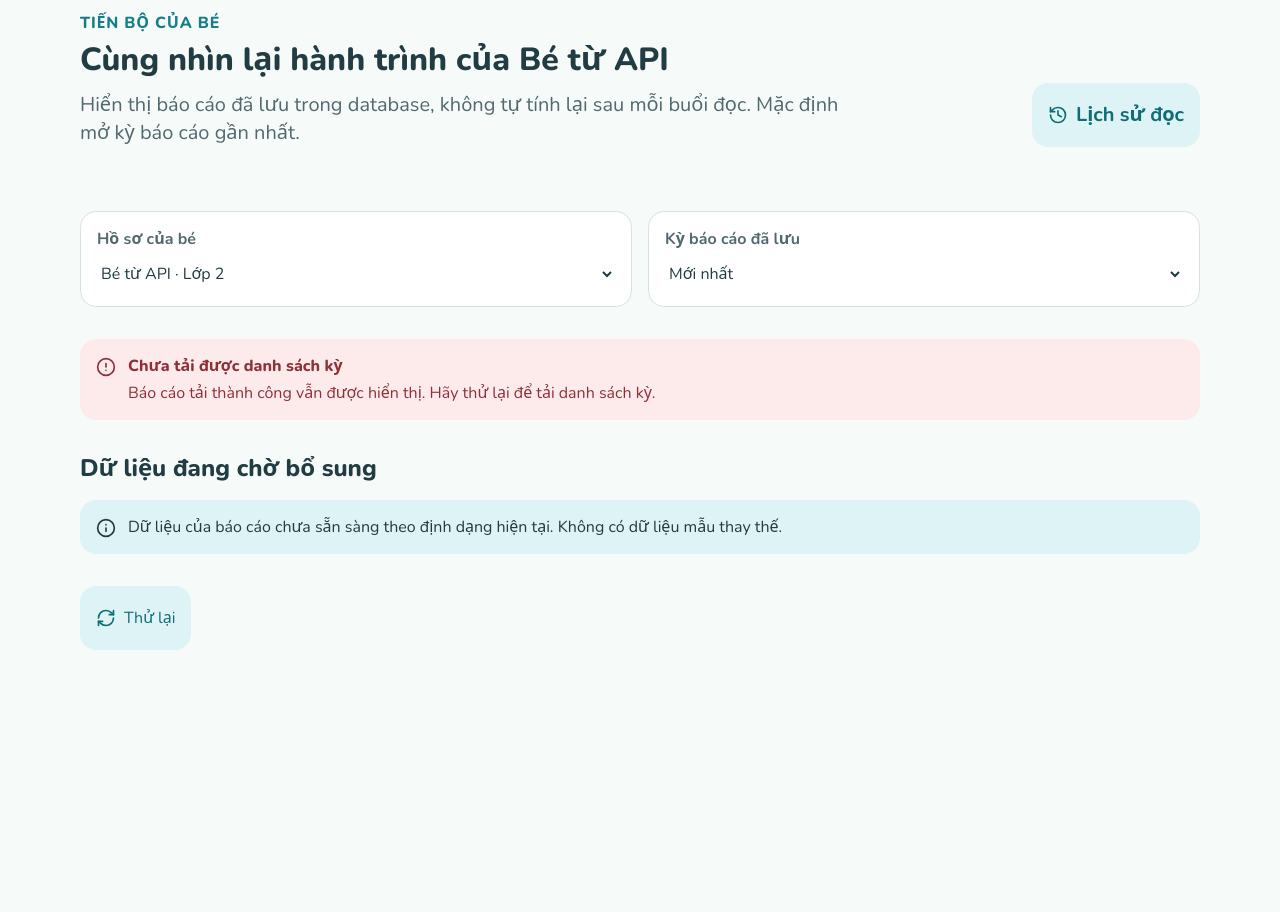
Parent report UI through real adapters and HTTP test doubles › shows unavailable and retries progress without runtime fallback
Expected: the heading "Dữ liệu đang chờ bổ sung" is shown, [80,452,377,484]
Click the button "Thử lại": (136, 618) [80,586,192,650]
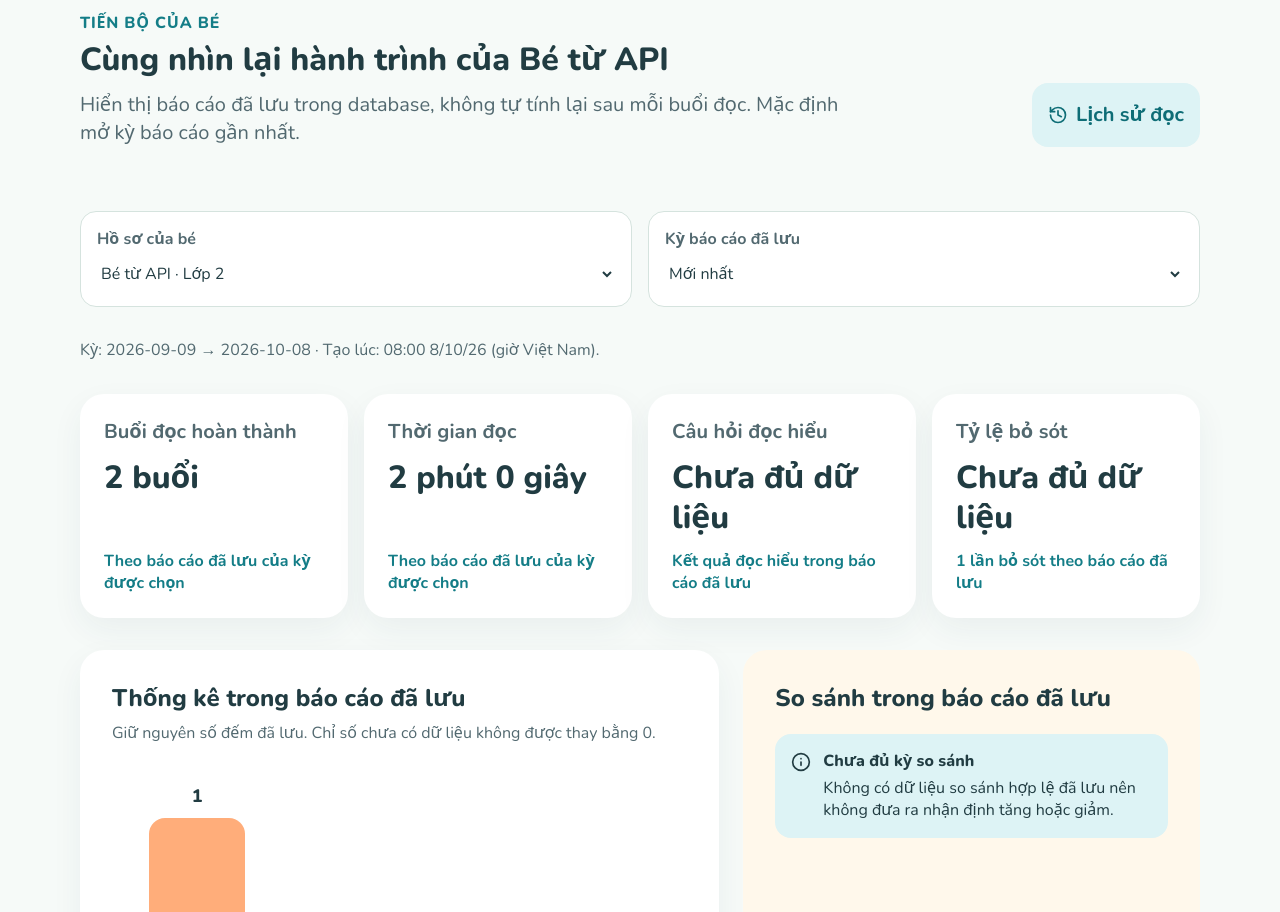
Expected: the heading "Dữ liệu đang chờ bổ sung" is gone
